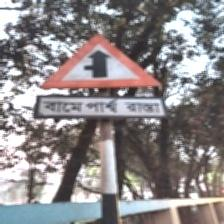Side-road-left: (37, 32, 167, 123)
